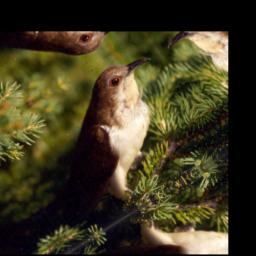Cuckoo: (0, 45, 213, 241)
